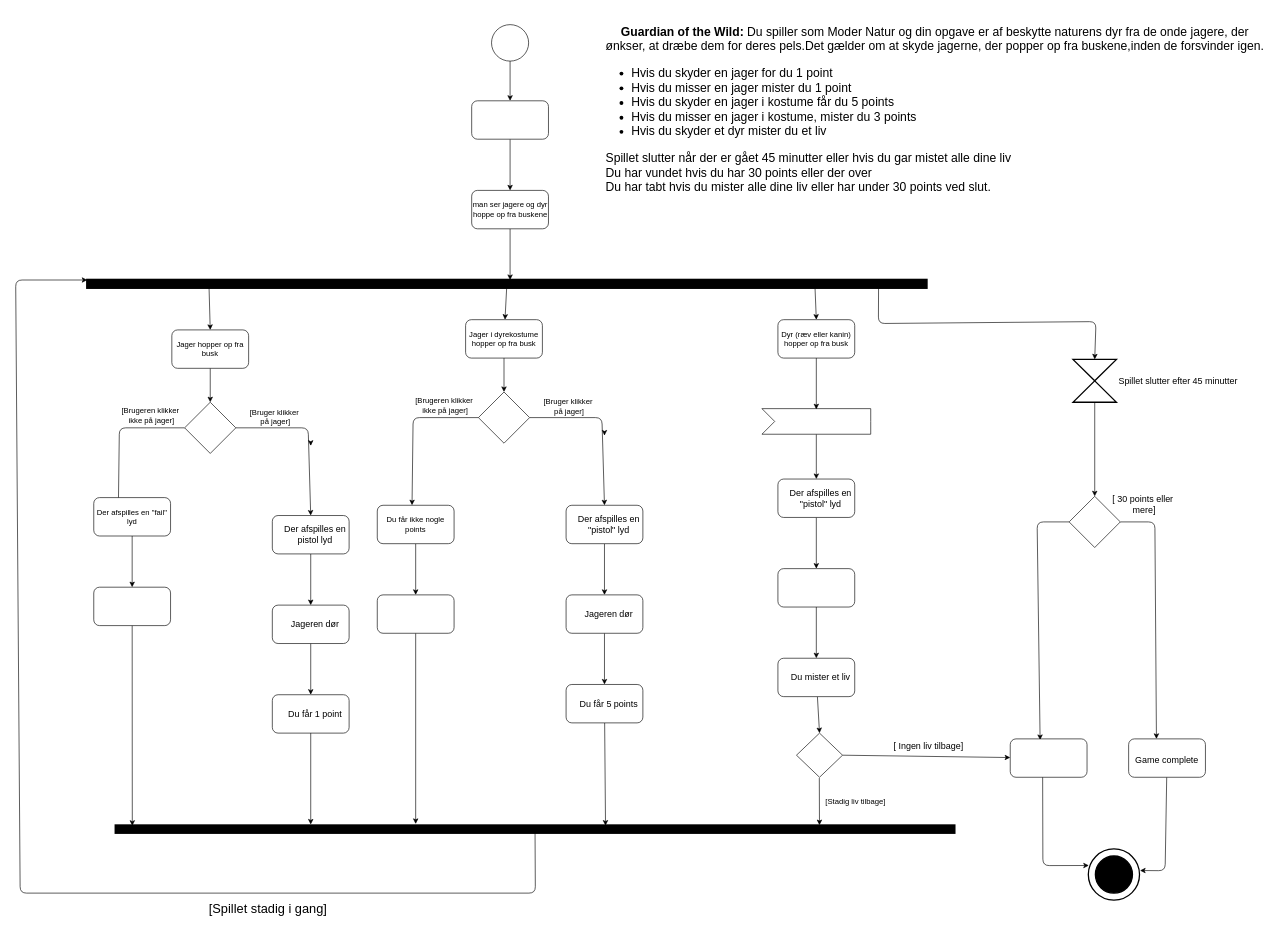
Some shapes in this 1281 by 930 pixel diagram are drawn without their labels. Each missing label, with the centre of its shape:
"Du mister 2 point" belongs at pixel 132 606.
"Dyret dør" belongs at pixel 816 587.
"Game over" belongs at pixel 1048 757.
"Klik på et dyr" belongs at pixel 816 421.
"Spillet starter" belongs at pixel 509 119.
